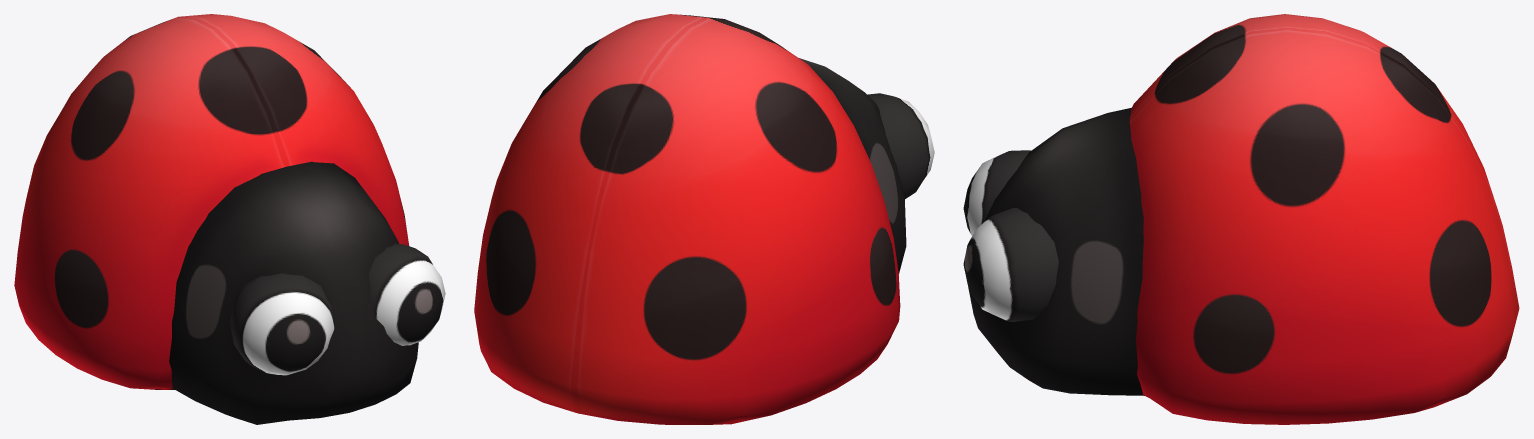
The model's file is ladybug.FBX.
3 views of the same model, side by side, from view 1: azimuth 30°, elevation 25°; view 2: azimuth 150°, elevation 25°; view 3: azimuth 270°, elevation 25° (orthographic). The views are drawn at different scales.
Visible parts, largest first — view 1: ladybug; view 2: ladybug; view 3: ladybug.
Boxes of the visible parts, box(x1,y1,x2,y2) form: ladybug: box(14, 14, 445, 424); ladybug: box(474, 14, 934, 424); ladybug: box(963, 14, 1519, 424).
Size of the model in its own units: 31.73 by 26.44 by 40.97.
